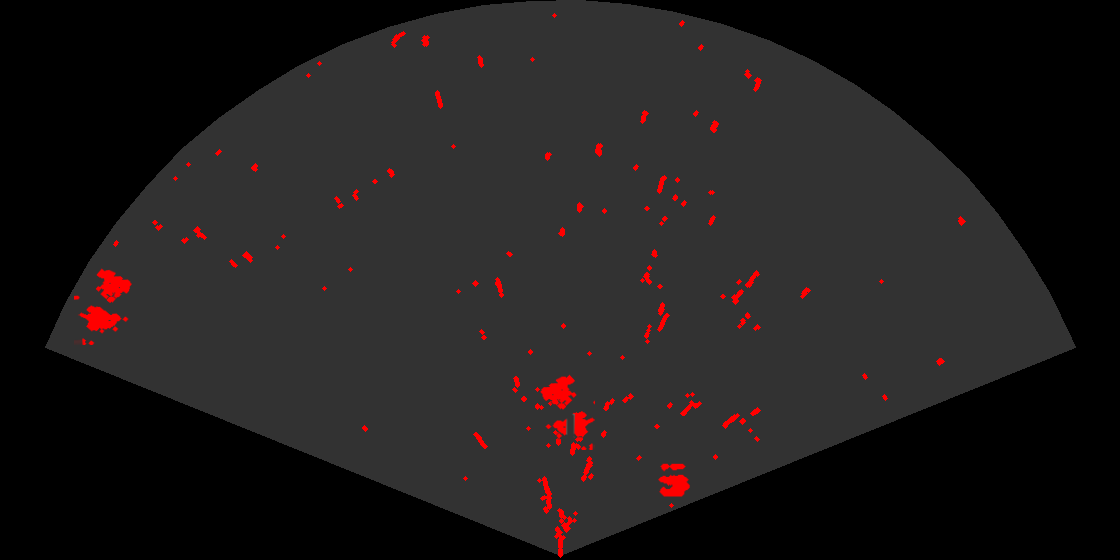ball: (657, 462, 691, 498)
cage: (74, 267, 133, 345), (539, 373, 595, 450)
